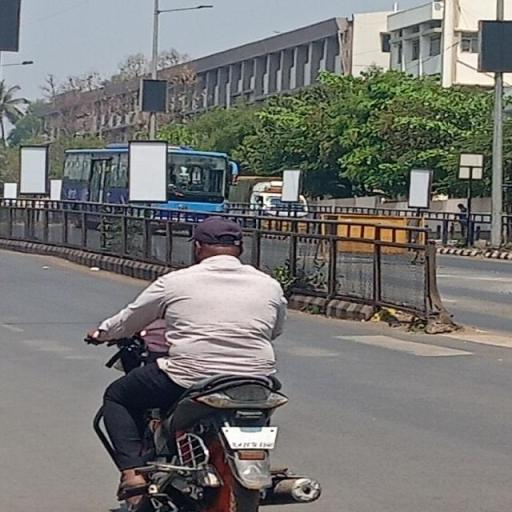withouthelmet: (187, 218, 246, 260)
